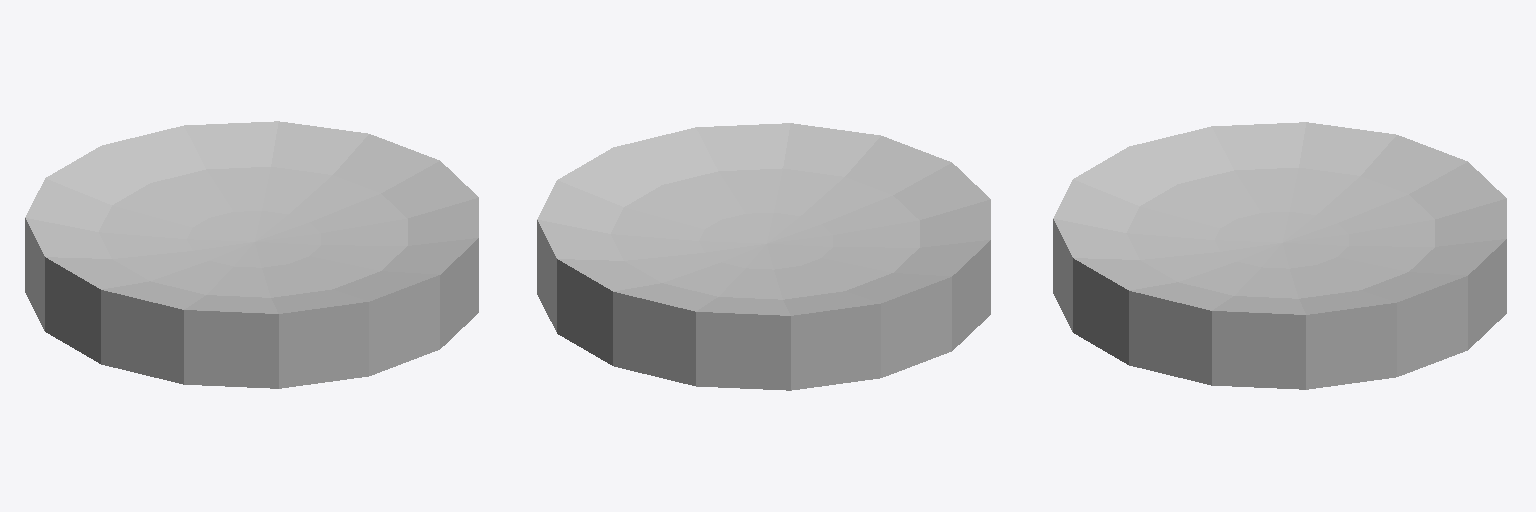
Rendered from button.obj.
3 renders of one model, left to right at view 1: azimuth 30°, elevation 25°; view 2: azimuth 150°, elevation 25°; view 3: azimuth 270°, elevation 25°, orthographic.
Visible parts, largest first — view 1: Cylinder.001_Cylinder.002; view 2: Cylinder.001_Cylinder.002; view 3: Cylinder.001_Cylinder.002.
Part boxes in pixels (x1,y1,x2,y2): Cylinder.001_Cylinder.002: (25, 121, 478, 388); Cylinder.001_Cylinder.002: (537, 123, 990, 390); Cylinder.001_Cylinder.002: (1053, 122, 1506, 389).
Bounding box in the file's own units: 1.16 × 0.2092 × 1.15.